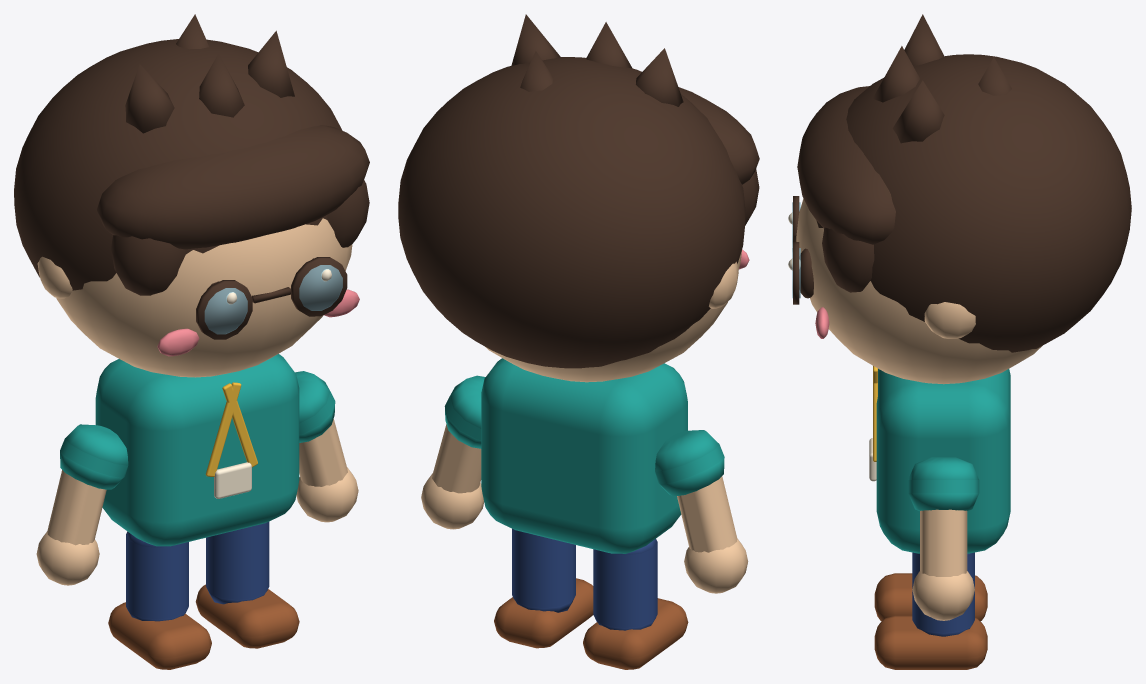
Rendered from crowd_student_c.glb.
3 views of the same model, side by side, from view 1: azimuth 30°, elevation 25°; view 2: azimuth 150°, elevation 25°; view 3: azimuth 270°, elevation 25° (orthographic). The views are drawn at different scales.
Visible parts, largest first — view 1: Hair.005, Torso.009, Fringe.004, Head.010, Leg-1.006, Leg1.006, Shoe-1.009, Shoe1.010, Sleeve-1.009, FringeSide-1.004, Arm-1.009, Lens-1.001 (+17 smaller); view 2: Hair.005, Torso.009, Leg-1.006, Leg1.006, Shoe-1.009, Sleeve-1.009, Shoe1.010, Head.010, Arm-1.009, Hand-1.009, Fringe.004, Arm1.009 (+8 smaller); view 3: Hair.005, Torso.009, Head.010, Fringe.004, Shoe1.010, Sleeve1.009, Arm1.009, FringeSide1.004, Hand1.009, Shoe-1.009, Spike2.001, Leg1.006 (+5 smaller).
Part boxes in pixels (box(x1,y1,x2,y2)): Hair.005: box(14, 39, 342, 290); Torso.009: box(95, 354, 299, 546); Fringe.004: box(97, 125, 369, 249); Head.010: box(56, 218, 352, 377); Leg-1.006: box(126, 531, 188, 621); Leg1.006: box(206, 522, 269, 604); Shoe-1.009: box(108, 602, 211, 669); Shoe1.010: box(195, 584, 299, 648); Sleeve-1.009: box(60, 424, 128, 489); FringeSide-1.004: box(111, 235, 185, 295); Arm-1.009: box(47, 470, 106, 545); Lens-1.001: box(196, 280, 252, 339); Hair.005: box(398, 57, 745, 368); Torso.009: box(481, 358, 687, 553); Leg-1.006: box(593, 539, 657, 630); Leg1.006: box(512, 528, 575, 612); Shoe-1.009: box(583, 598, 688, 669); Sleeve-1.009: box(655, 430, 724, 496); Shoe1.010: box(494, 578, 593, 648); Head.010: box(485, 250, 741, 382); Arm-1.009: box(677, 476, 737, 552); Hand-1.009: box(684, 538, 748, 593); Fringe.004: box(678, 87, 759, 184); Arm1.009: box(432, 424, 481, 493); Hair.005: box(816, 54, 1131, 352); Torso.009: box(876, 368, 1010, 553); Head.010: box(796, 198, 1041, 384); Fringe.004: box(797, 86, 895, 244); Shoe1.010: box(874, 615, 987, 669); Sleeve1.009: box(908, 457, 979, 510); Arm1.009: box(920, 509, 967, 576); FringeSide1.004: box(822, 227, 874, 292); Hand1.009: box(912, 571, 974, 620); Shoe-1.009: box(874, 573, 987, 621); Spike2.001: box(892, 80, 944, 143); Leg1.006: box(912, 552, 974, 636).
Bounding box in the file's own units: 0.86 × 1.57 × 0.822.
